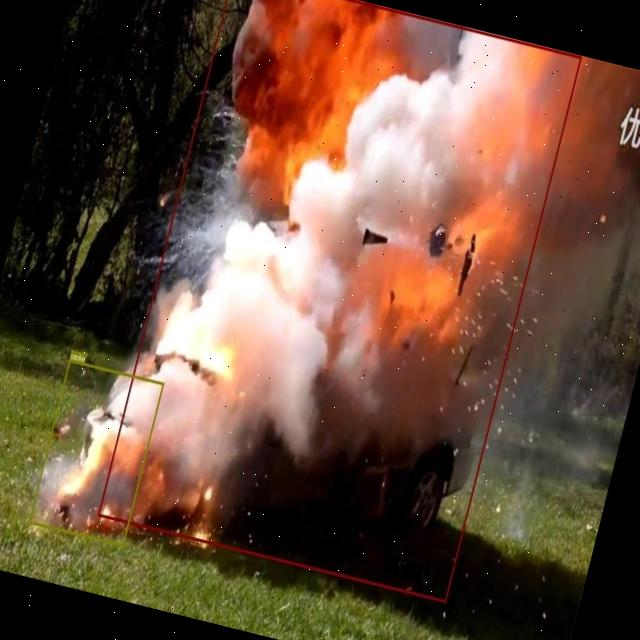fire: (97, 0, 582, 602)
smoke: (29, 358, 164, 546)
